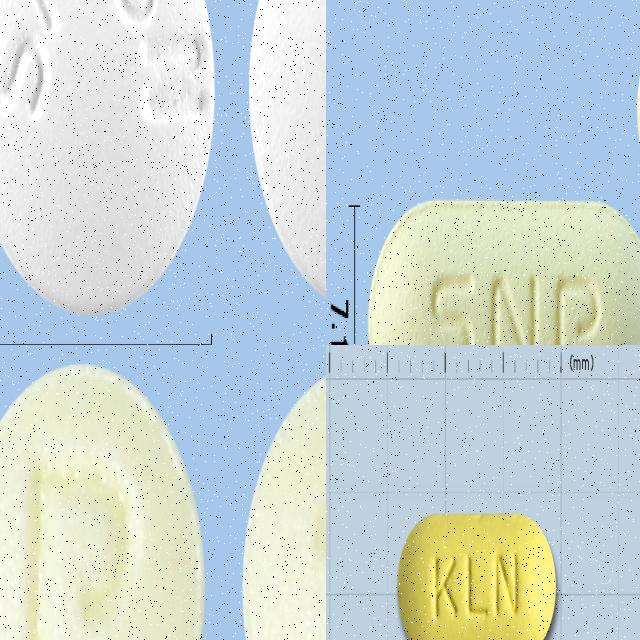A Progen Clarithromycin Tab: (368, 198, 640, 345)
Azabio - 25mg: (0, 359, 210, 640), (239, 360, 326, 640)
Ciflonew: (0, 0, 219, 323), (245, 0, 326, 324)
Clarith: (394, 510, 558, 640)
